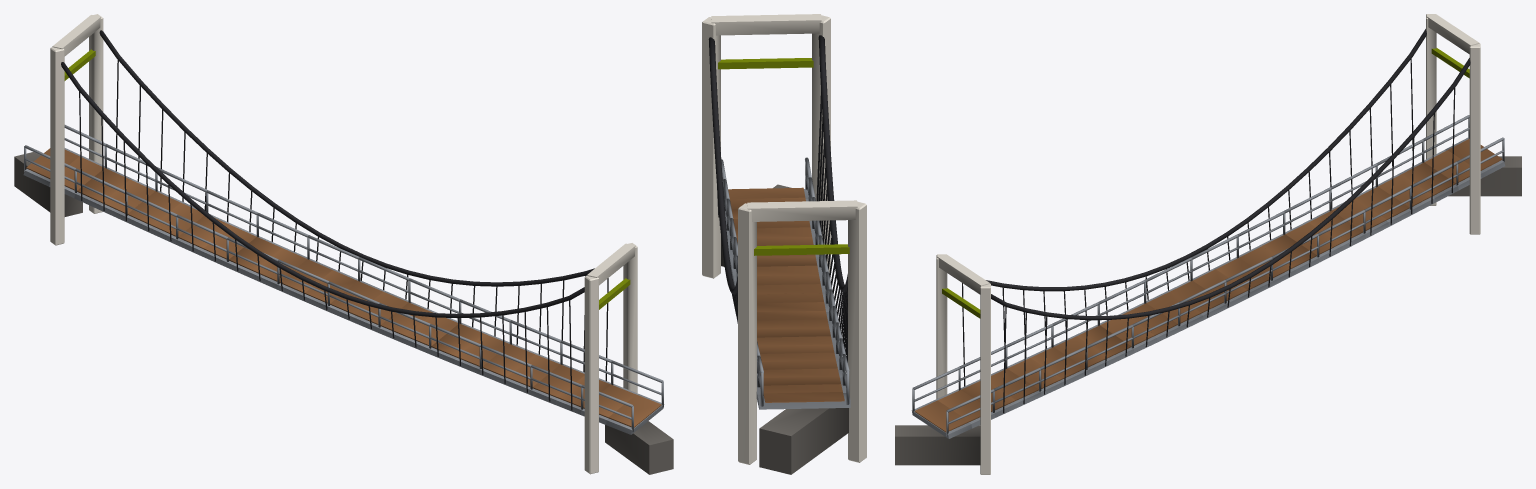
Rendered from about_research.glb.
3 views of the same model, side by side, from view 1: azimuth 30°, elevation 25°; view 2: azimuth 150°, elevation 25°; view 3: azimuth 270°, elevation 25° (orthographic). The views are drawn at different scales.
Parts seen in each view (by area): view 1: bridge; view 2: bridge; view 3: bridge.
Boxes of the visible parts, bbox=[...] form: bridge: bbox=[14, 14, 673, 474]; bridge: bbox=[702, 14, 866, 474]; bridge: bbox=[895, 14, 1521, 474].
Size of the model in its own units: 9.17 by 7.26 by 13.9.
